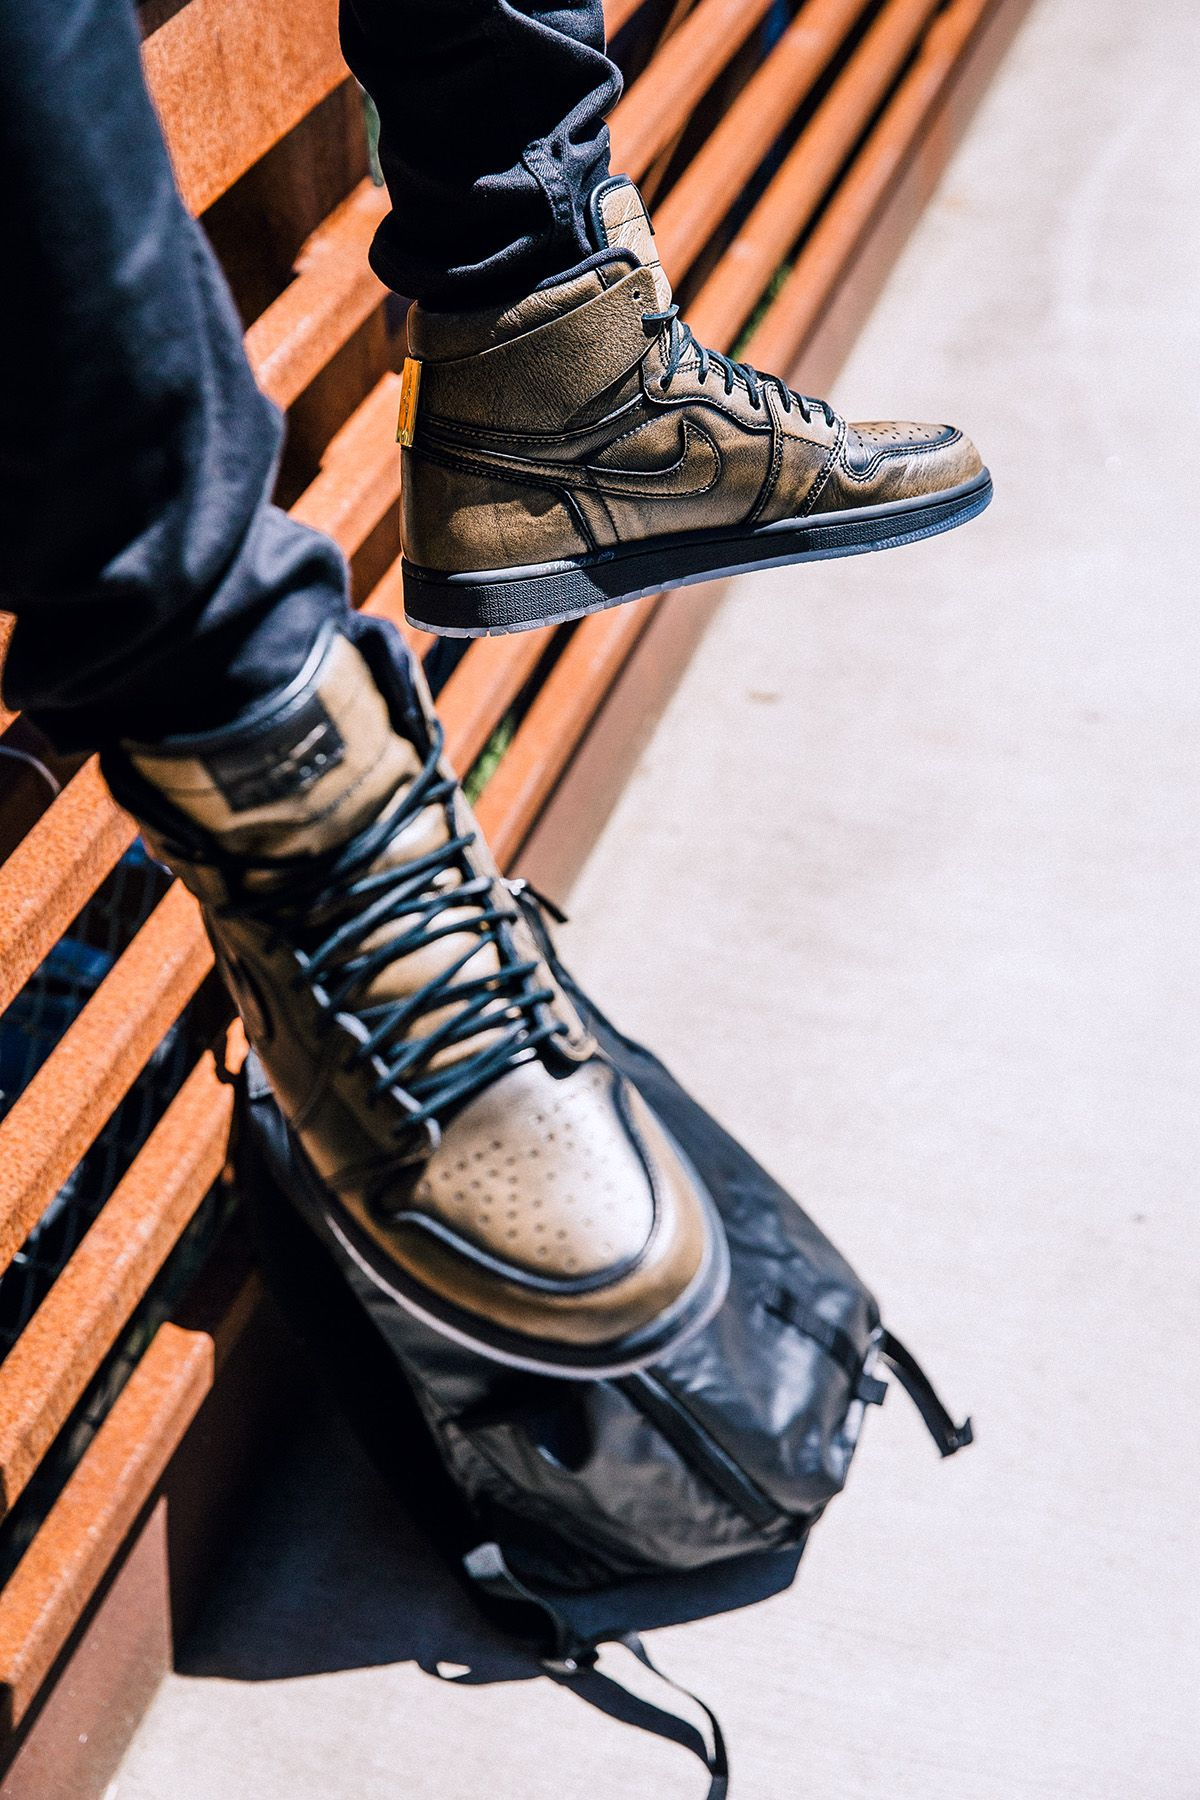Jordan 1: (89, 597, 749, 1397), (393, 158, 998, 646)
